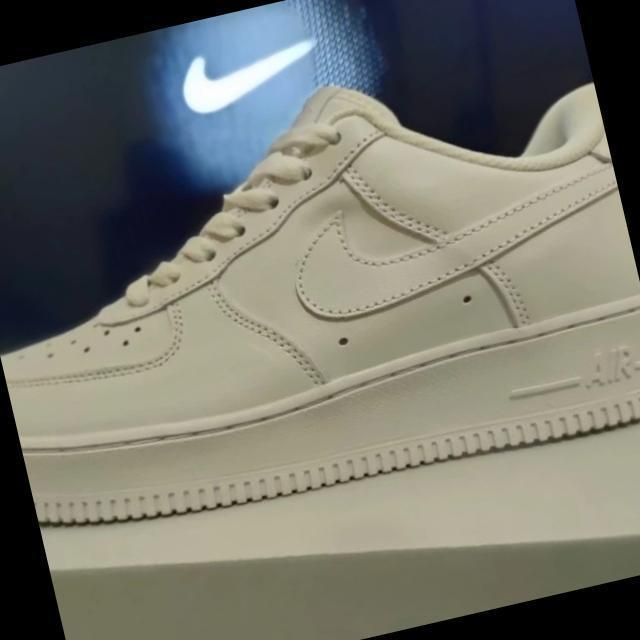nike original air force: (0, 25, 640, 564)
